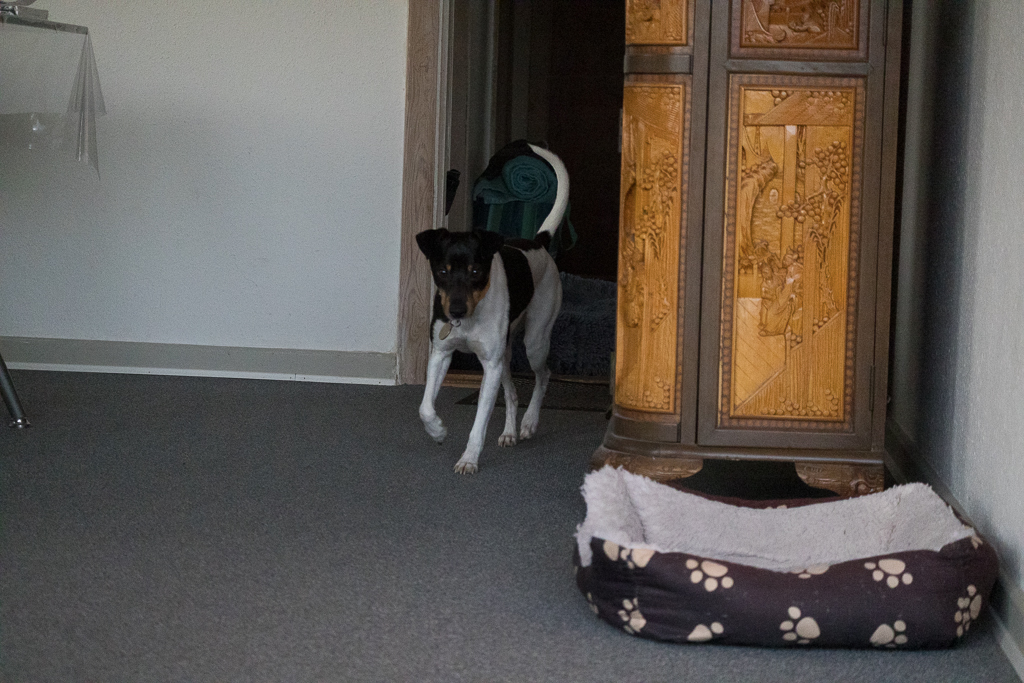Dog: (402, 138, 577, 482)
